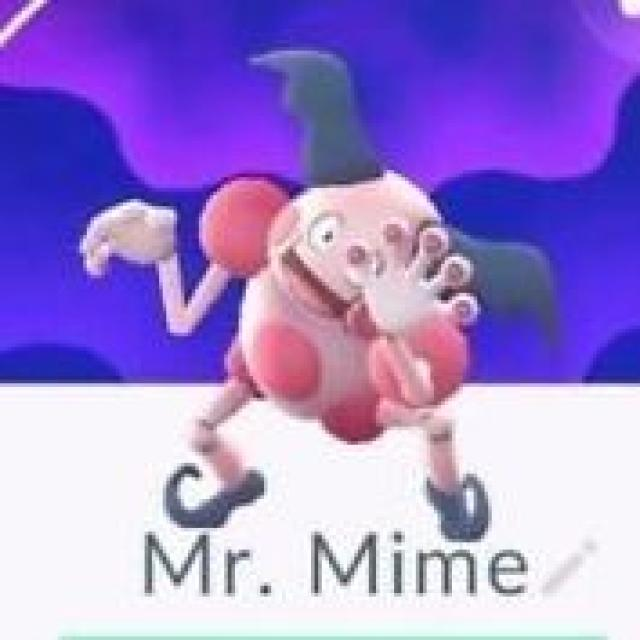MrMime: (165, 56, 551, 533)
